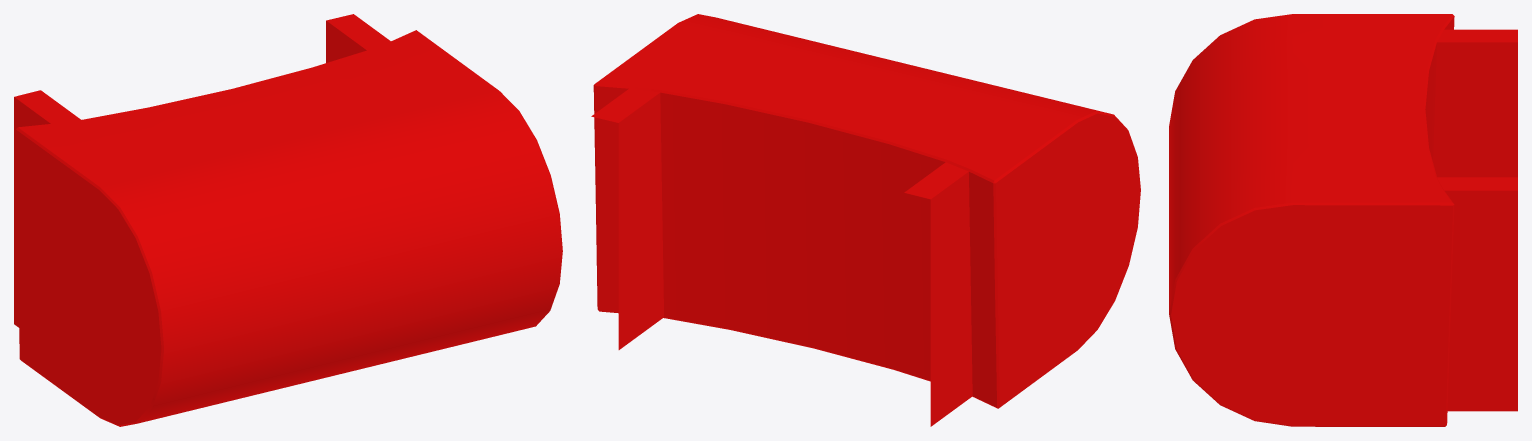
File: SM_PC_screen_01_joint_mid.glb
The picture shows the model from 3 angles, left to right: view 1: azimuth 30°, elevation 25°; view 2: azimuth 150°, elevation 25°; view 3: azimuth 270°, elevation 25°; orthographic projection. The views are drawn at different scales.
Parts seen in each view (by area): view 1: SM_PC_screen_01_joint_mid_LOD0; view 2: SM_PC_screen_01_joint_mid_LOD0; view 3: SM_PC_screen_01_joint_mid_LOD0.
Part boxes in pixels (bbox=[...]): SM_PC_screen_01_joint_mid_LOD0: bbox=[14, 14, 562, 426]; SM_PC_screen_01_joint_mid_LOD0: bbox=[591, 14, 1140, 426]; SM_PC_screen_01_joint_mid_LOD0: bbox=[1169, 14, 1517, 426].
Size of what is drawn, in the model's own units: 0.0329 by 0.0181 by 0.0255.
